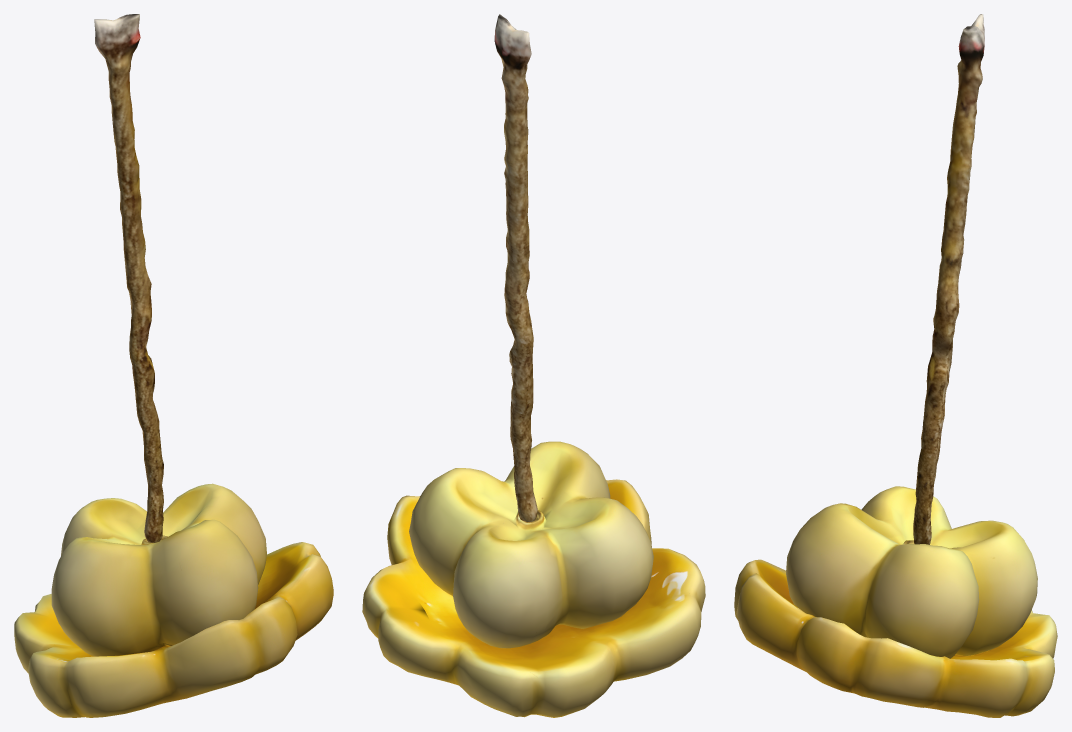
The picture shows the model from 3 angles, left to right: view 1: azimuth 30°, elevation 25°; view 2: azimuth 150°, elevation 25°; view 3: azimuth 270°, elevation 25°; orthographic projection. The views are drawn at different scales.
Visible parts, largest first — view 1: tripo_node_3d0b06aa-0eda-4fa0-bb59-7f441f8080b6; view 2: tripo_node_3d0b06aa-0eda-4fa0-bb59-7f441f8080b6; view 3: tripo_node_3d0b06aa-0eda-4fa0-bb59-7f441f8080b6.
Boxes of the visible parts, x1,y1,x2,y2 form: tripo_node_3d0b06aa-0eda-4fa0-bb59-7f441f8080b6: (14,14,333,717); tripo_node_3d0b06aa-0eda-4fa0-bb59-7f441f8080b6: (362,14,705,717); tripo_node_3d0b06aa-0eda-4fa0-bb59-7f441f8080b6: (734,14,1057,717).
Size of the model in its own units: 6.59 by 14.21 by 6.18.
Materials: 1 (1 with a texture image).
